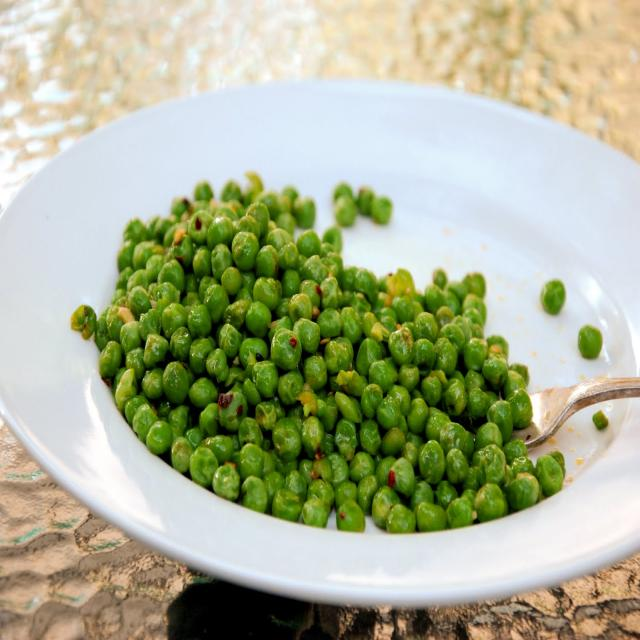pea: (65, 174, 610, 501)
